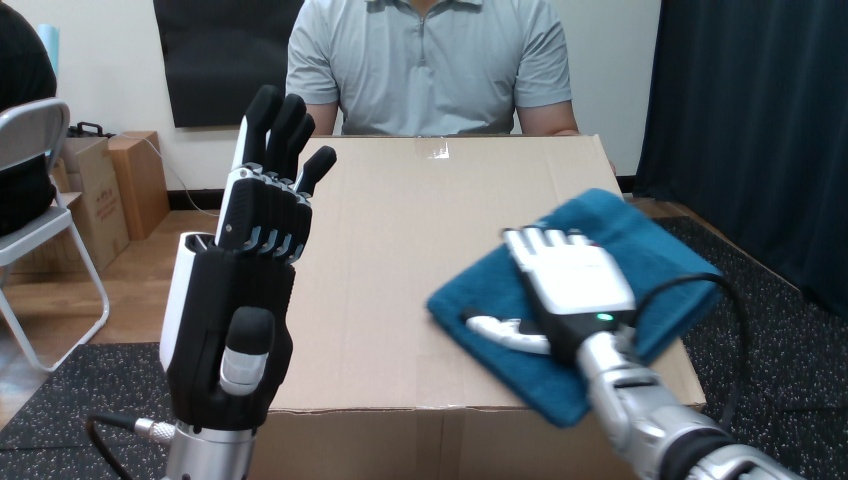left robot hand: (86, 85, 335, 479), (463, 226, 801, 479)
